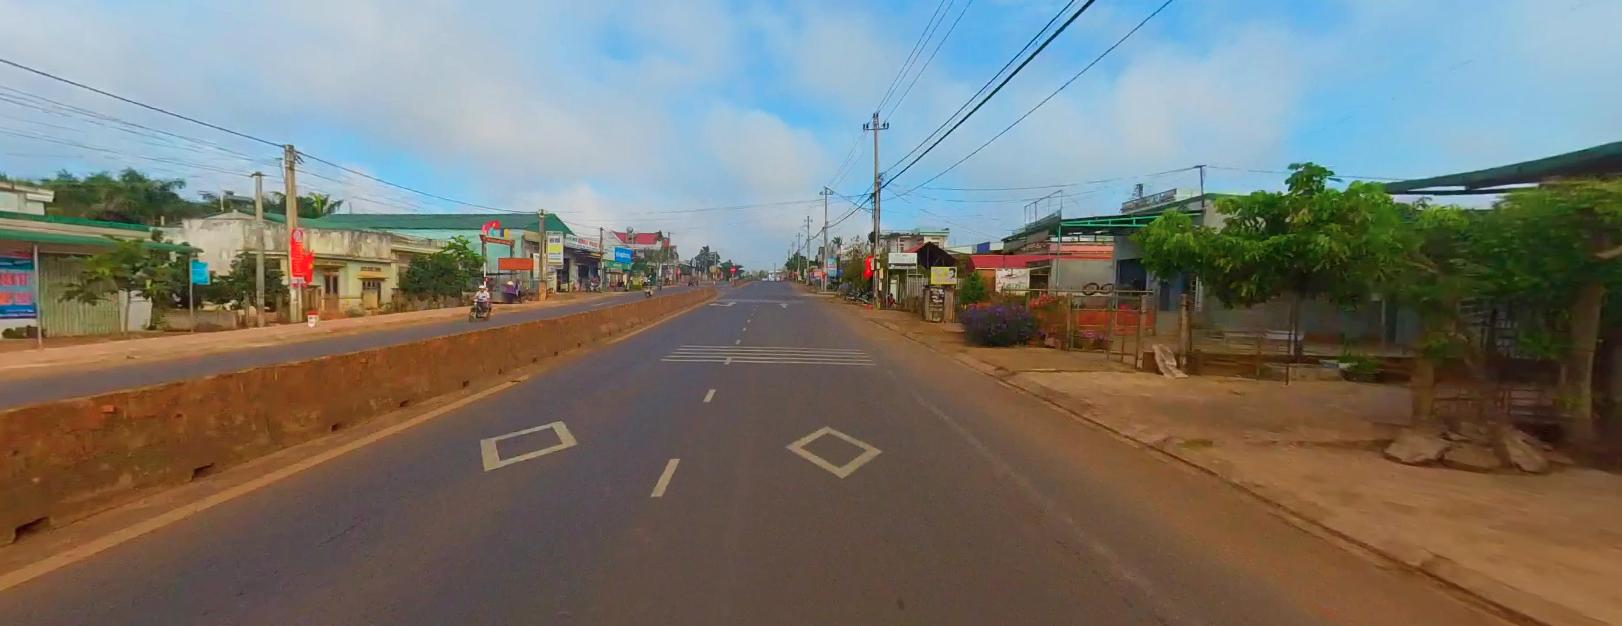Cam nguoc chieu: (729, 265, 735, 271)
